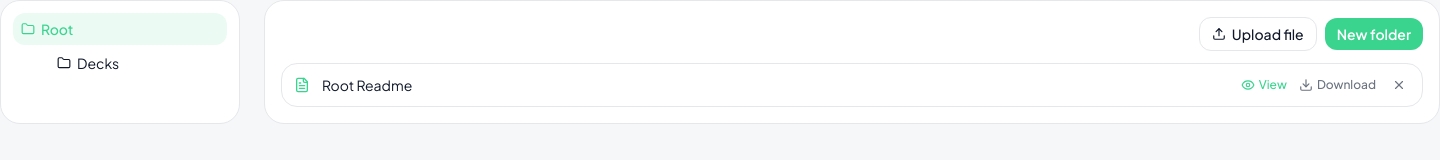
Test: HubFilesTab (manage) › creates a folder and adds it to the tree
Click the button "New folder": {"x": 1374, "y": 34} [1325, 18, 1423, 50]
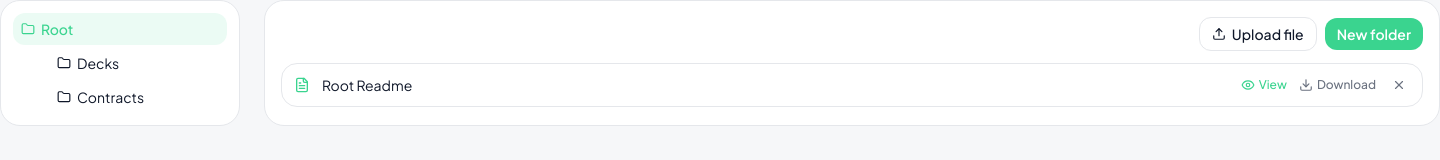
Result: the button "Contracts" is shown at [13, 81, 227, 113]
